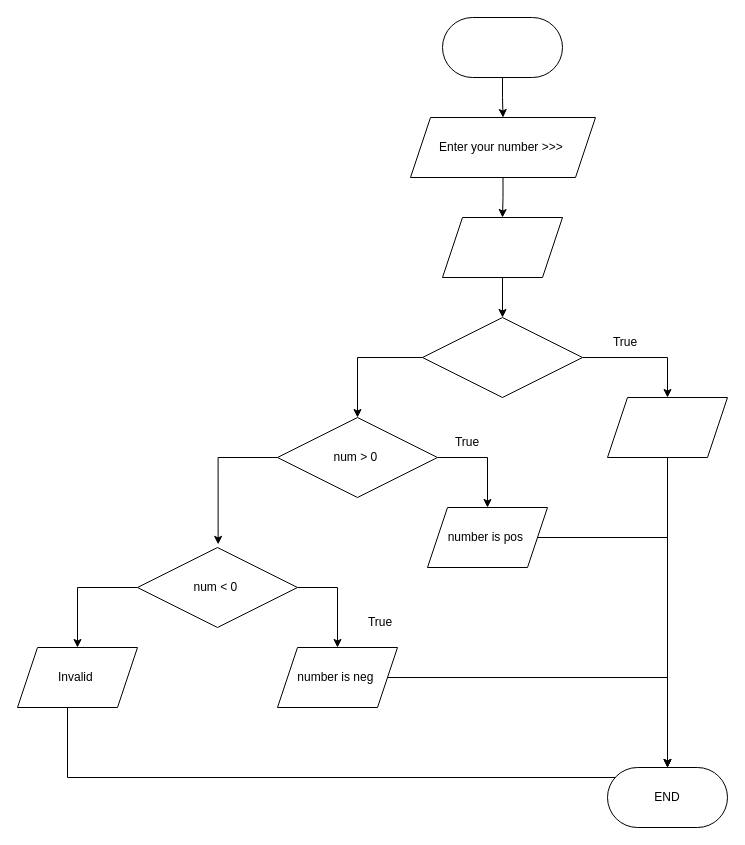
This 745x845 diagram has some shape labels left out. Here are the shapes that lost their labels. From the top down, the box of each, then its label:
(442, 16, 562, 78): pos, neg or zero
(442, 216, 562, 278): num
(422, 316, 582, 398): num == 0
(606, 396, 728, 458): number = 0
